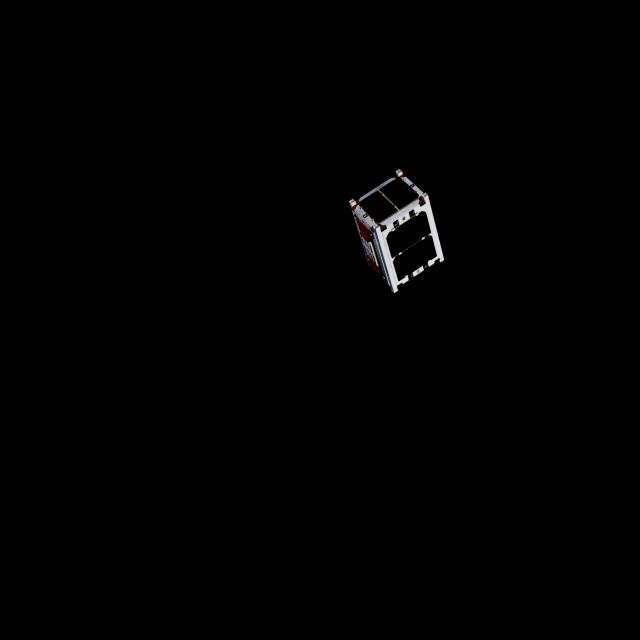satellite: (347, 167, 452, 295)
